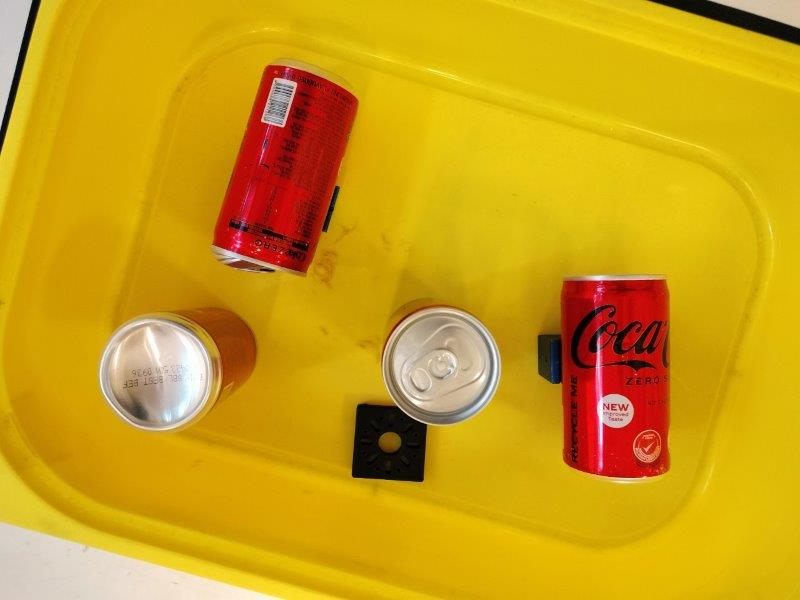Coke: (211, 59, 360, 276), (560, 274, 671, 482), (97, 307, 258, 431), (382, 296, 502, 426)
